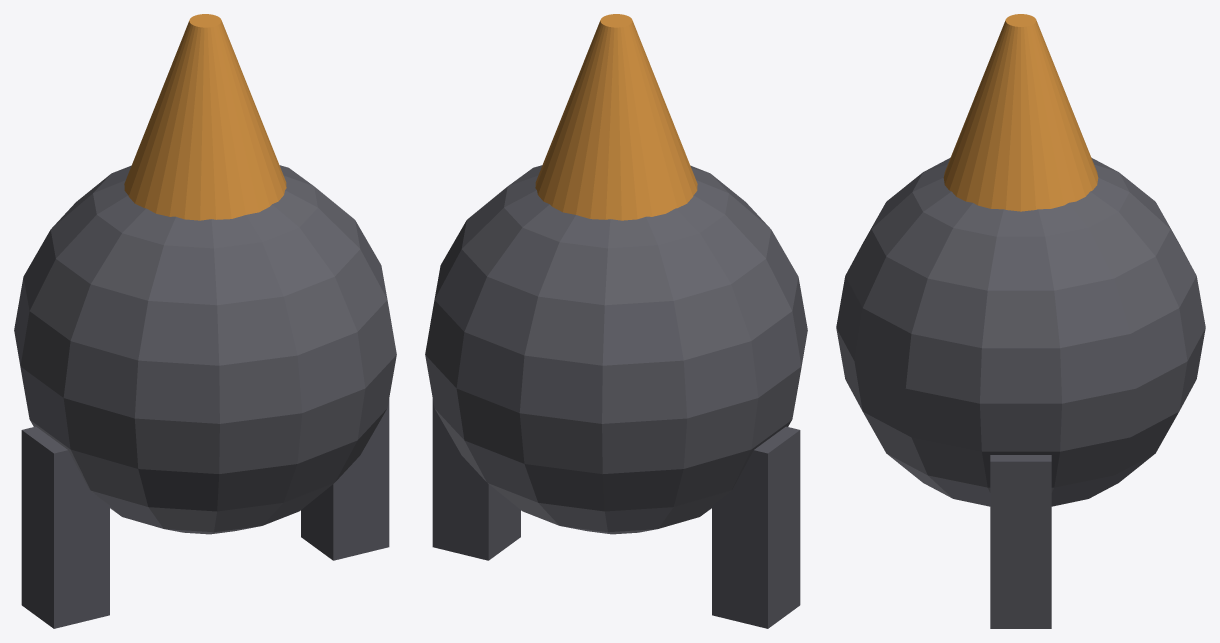
Rendered from balabomba_mesh.glb.
The picture shows the model from 3 angles, left to right: view 1: azimuth 30°, elevation 25°; view 2: azimuth 150°, elevation 25°; view 3: azimuth 270°, elevation 25°; orthographic projection. The views are drawn at different scales.
Visible parts, largest first — view 1: BalaBomba; view 2: BalaBomba; view 3: BalaBomba.
Part boxes in pixels (x1,y1,x2,y2): BalaBomba: (14, 14, 396, 628); BalaBomba: (425, 14, 807, 628); BalaBomba: (836, 14, 1205, 628).
Size of the model in its own units: 0.24 by 0.38 by 0.24.
